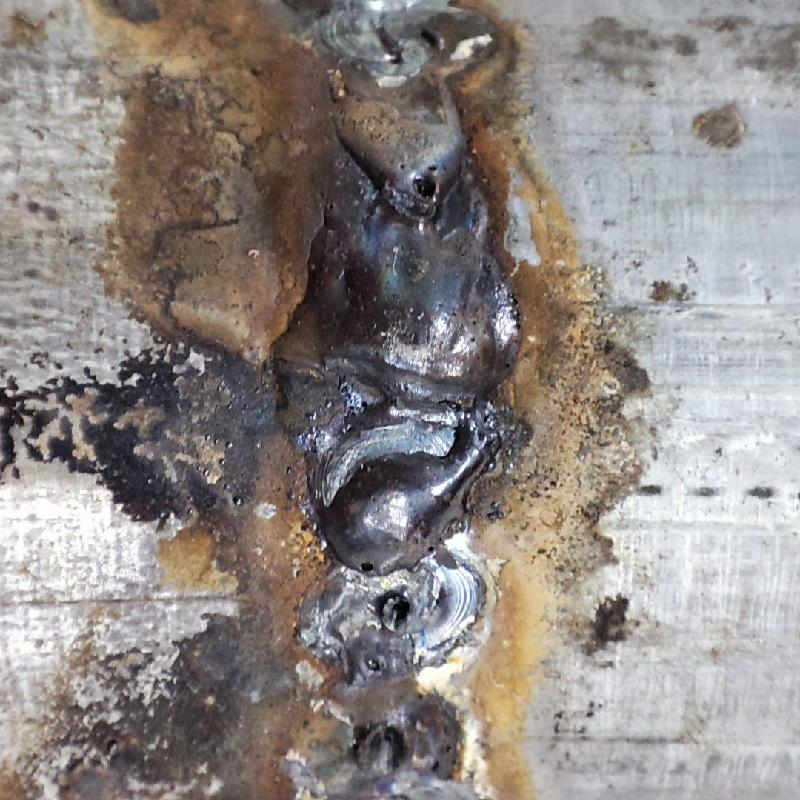Not_fully_soldered: (298, 570, 494, 796), (296, 2, 484, 213)
Surface_pores: (392, 153, 451, 206), (354, 547, 380, 584)
Weld: (262, 213, 522, 576)
